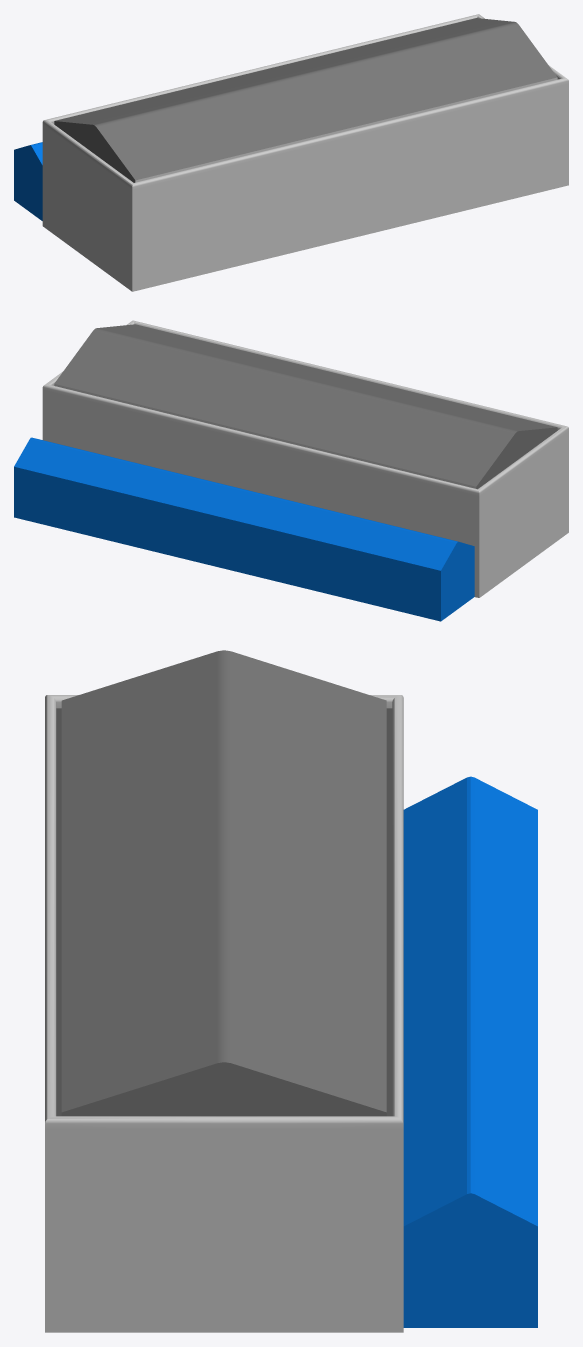
The picture shows the model from 3 angles, top to bottom: view 1: azimuth 30°, elevation 25°; view 2: azimuth 150°, elevation 25°; view 3: azimuth 270°, elevation 25°; orthographic projection. The views are drawn at different scales.
Parts seen in each view (by area): view 1: pCube1; view 2: pCube1; view 3: pCube1.
Boxes of the visible parts, x1,y1,x2,y2 form: pCube1: (14,14,568,291); pCube1: (14,320,568,621); pCube1: (45,650,537,1332).
Bounding box in the file's own units: 9 × 2.6 × 4.4.
